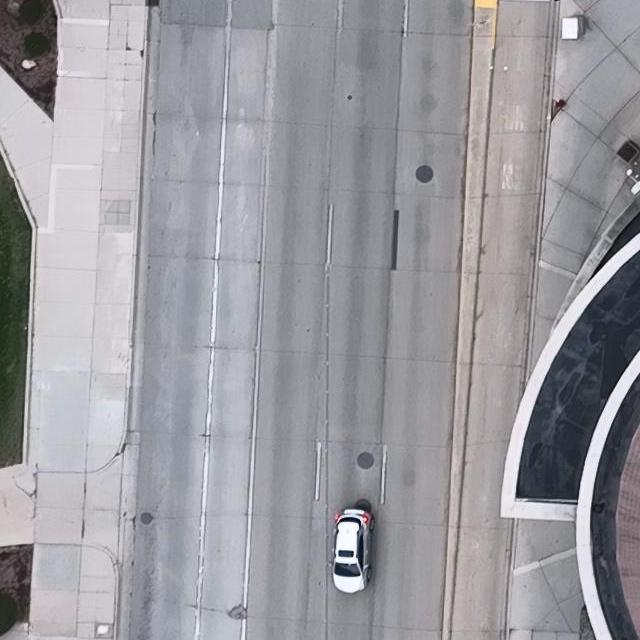car: (330, 509, 376, 594)
